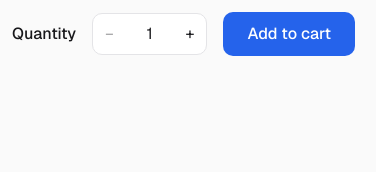
Scenario: AddToCart › adds the chosen quantity to the cart
Click the button named "Increase quantity" at (190, 34), box [174, 14, 206, 54]
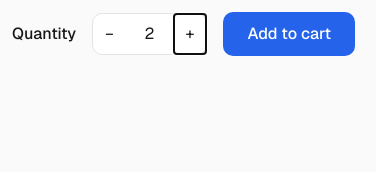
Click the button "Add to cart" at (289, 34), box [224, 12, 355, 56]
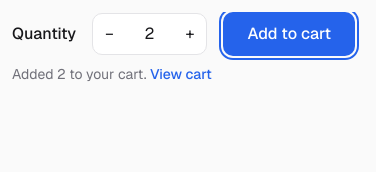
expect the message shows "Added 2 to your cart.": met, box [12, 65, 212, 83]
